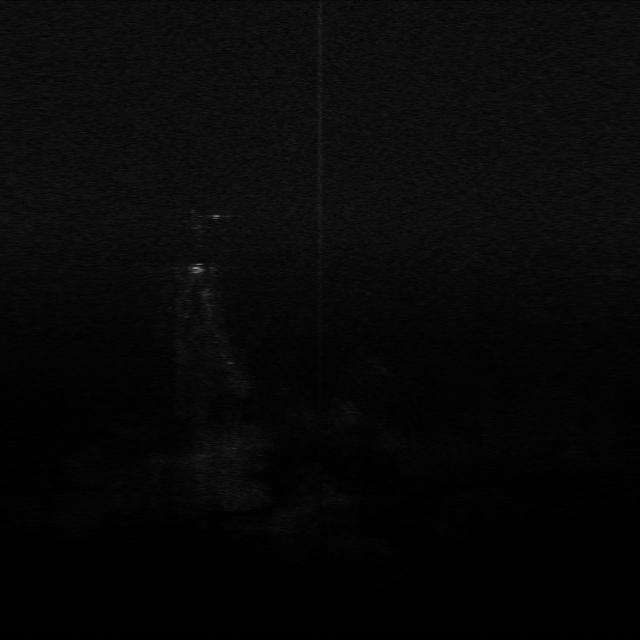rov: (186, 260, 210, 276)
